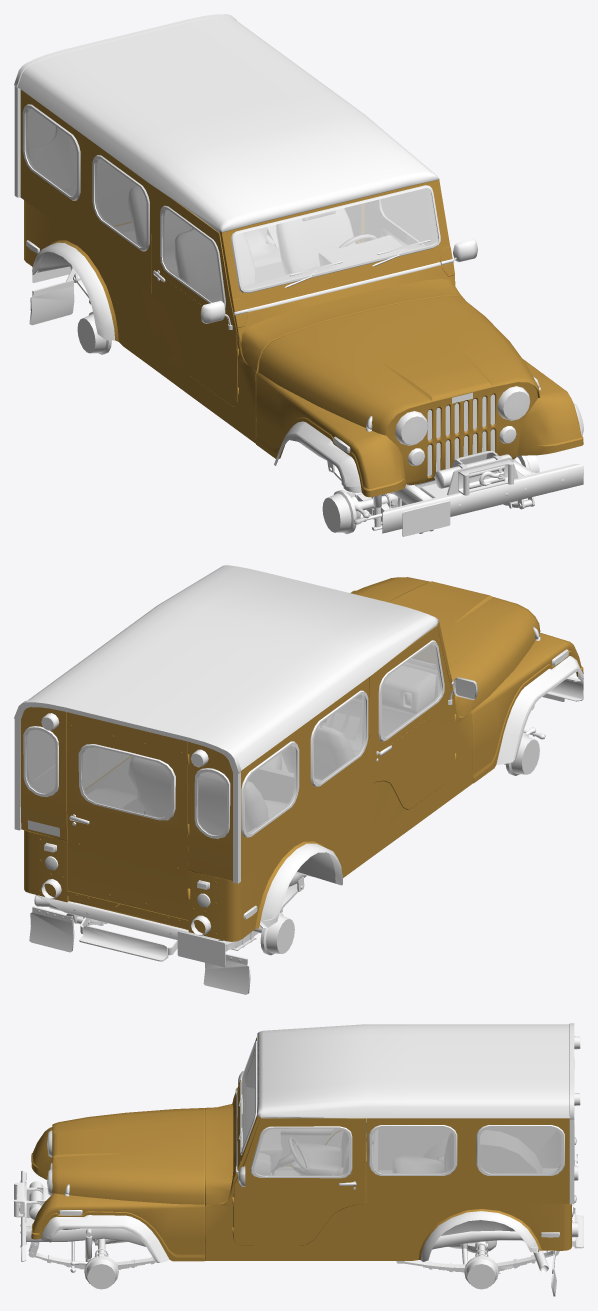
The model's file is body.glb.
3 views of the same model, one above another, from view 1: azimuth 30°, elevation 25°; view 2: azimuth 150°, elevation 25°; view 3: azimuth 270°, elevation 25° (orthographic). The views are drawn at different scales.
Parts seen in each view (by area): view 1: EugenMK665_Bottom_UCB_BOTTOM_0, EugenMK665_Body_EugenMK665_bodymat_0, EugenMK665_Body_Glass_UCB_Lights_and_Glass_Transperent_0, EugenMK665_interior_UCB_Interiors_2_0, EugenMK665_Numberplate_front_Numberplates_Misk_U_0, EugenMK665_Headlights_UCB_Lights_and_Glass_0; view 2: EugenMK665_Bottom_UCB_BOTTOM_0, EugenMK665_Body_EugenMK665_bodymat_0, EugenMK665_Body_Glass_UCB_Lights_and_Glass_Transperent_0, EugenMK665_interior_UCB_Interiors_2_0, EugenMK665_Numberplate_front_Numberplates_Misk_U_0, EugenMK665_Headlights_UCB_Lights_and_Glass_0; view 3: EugenMK665_Body_EugenMK665_bodymat_0, EugenMK665_Bottom_UCB_BOTTOM_0, EugenMK665_Body_Glass_UCB_Lights_and_Glass_Transperent_0, EugenMK665_interior_UCB_Interiors_2_0.
Part boxes in pixels (<box>): EugenMK665_Bottom_UCB_BOTTOM_0: <box>14,14,583,533</box>; EugenMK665_Body_EugenMK665_bodymat_0: <box>20,89,583,497</box>; EugenMK665_Body_Glass_UCB_Lights_and_Glass_Transperent_0: <box>25,108,529,444</box>; EugenMK665_interior_UCB_Interiors_2_0: <box>27,104,423,301</box>; EugenMK665_Numberplate_front_Numberplates_Misk_U_0: <box>32,266,450,536</box>; EugenMK665_Headlights_UCB_Lights_and_Glass_0: <box>401,392,529,465</box>; EugenMK665_Bottom_UCB_BOTTOM_0: <box>14,565,583,994</box>; EugenMK665_Body_EugenMK665_bodymat_0: <box>20,577,583,941</box>; EugenMK665_Body_Glass_UCB_Lights_and_Glass_Transperent_0: <box>26,644,441,889</box>; EugenMK665_interior_UCB_Interiors_2_0: <box>27,660,439,834</box>; EugenMK665_Numberplate_front_Numberplates_Misk_U_0: <box>177,694,564,967</box>; EugenMK665_Headlights_UCB_Lights_and_Glass_0: <box>41,717,209,907</box>; EugenMK665_Body_EugenMK665_bodymat_0: <box>31,1037,572,1261</box>; EugenMK665_Bottom_UCB_BOTTOM_0: <box>14,1023,583,1296</box>; EugenMK665_Body_Glass_UCB_Lights_and_Glass_Transperent_0: <box>47,1044,576,1202</box>; EugenMK665_interior_UCB_Interiors_2_0: <box>243,1054,564,1178</box>.
Bounding box in the file's own units: 1.73 × 1.52 × 3.98.
